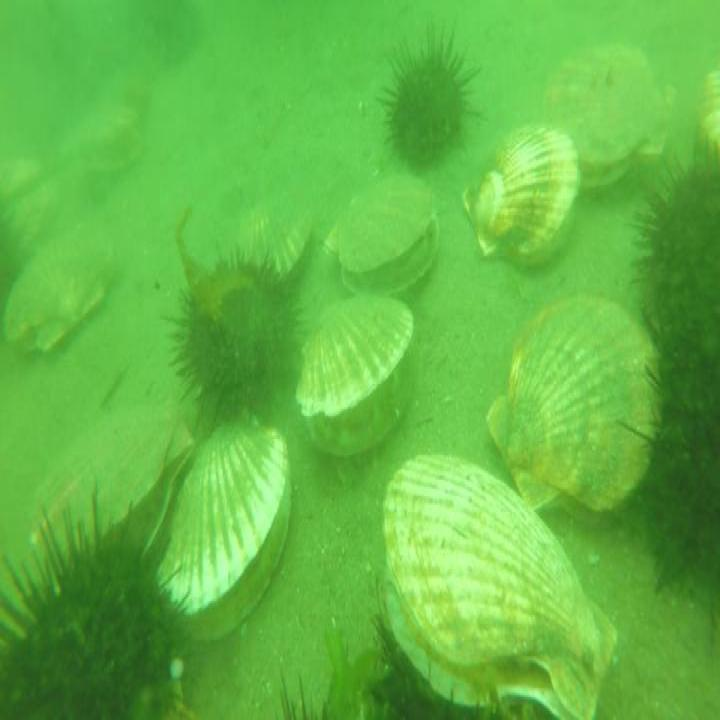echinus: (2, 506, 198, 720), (167, 247, 306, 425), (642, 315, 720, 612), (634, 128, 720, 364), (380, 25, 485, 178), (141, 0, 206, 68)
scallop: (379, 444, 619, 720), (483, 284, 665, 528), (165, 407, 292, 647), (24, 393, 192, 569), (540, 34, 684, 197), (296, 290, 421, 464), (457, 121, 581, 274), (2, 215, 120, 365), (327, 172, 444, 294), (49, 108, 150, 186), (230, 185, 312, 281)
